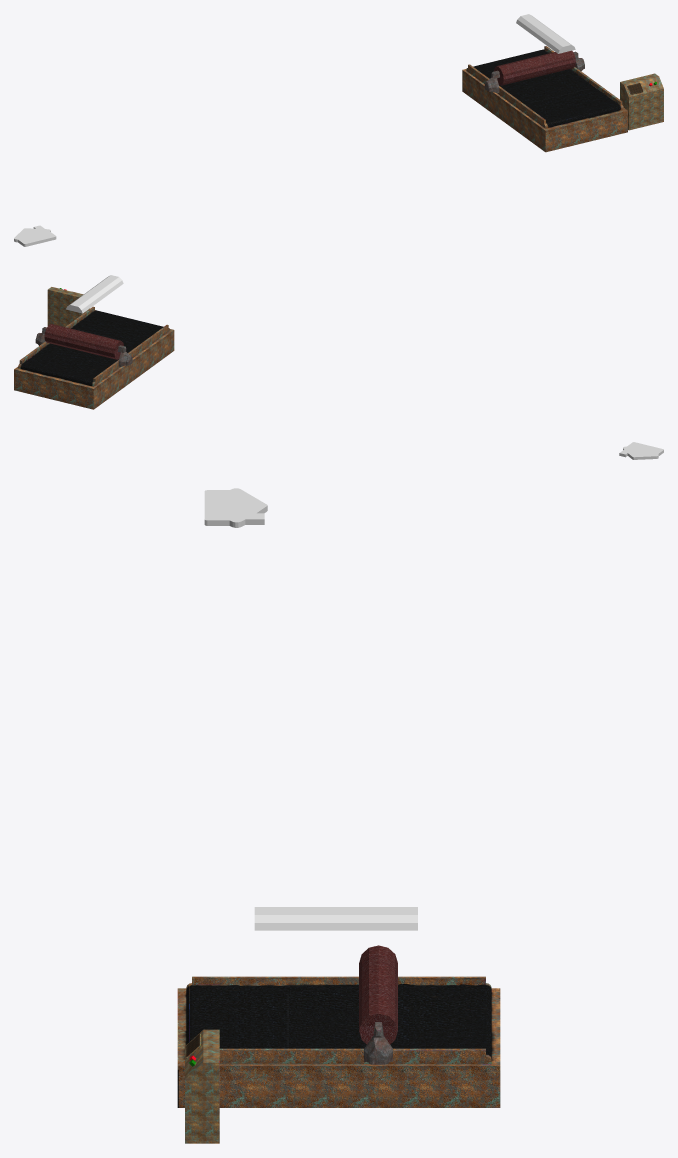
File: Stanok.fbx
The picture shows the model from 3 angles, top to bottom: view 1: azimuth 30°, elevation 25°; view 2: azimuth 150°, elevation 25°; view 3: azimuth 270°, elevation 25°; orthographic projection. The views are drawn at different scales.
Visible parts, largest first — view 1: Устройство, Настройки, Точилка, Лампа, Пол; view 2: Устройство, Точилка, Настройки, Лампа, Пол; view 3: Устройство, Лампа, Настройки, Точилка, Пол.
Boxes of the visible parts, <box> form: Устройство: <box>462,46,627,152</box>; Настройки: <box>620,73,663,130</box>; Точилка: <box>494,50,575,85</box>; Лампа: <box>516,14,575,53</box>; Пол: <box>14,225,56,246</box>; Устройство: <box>14,306,174,409</box>; Точилка: <box>44,324,123,359</box>; Настройки: <box>47,287,89,326</box>; Лампа: <box>66,275,123,313</box>; Пол: <box>619,442,663,459</box>; Устройство: <box>177,976,500,1107</box>; Лампа: <box>254,907,417,930</box>; Настройки: <box>185,1029,219,1143</box>; Точилка: <box>359,945,397,1044</box>; Пол: <box>204,488,267,527</box>.
Bounding box in the file's own units: 1542 × 190 × 350.
Materials: 5 (5 with a texture image).
